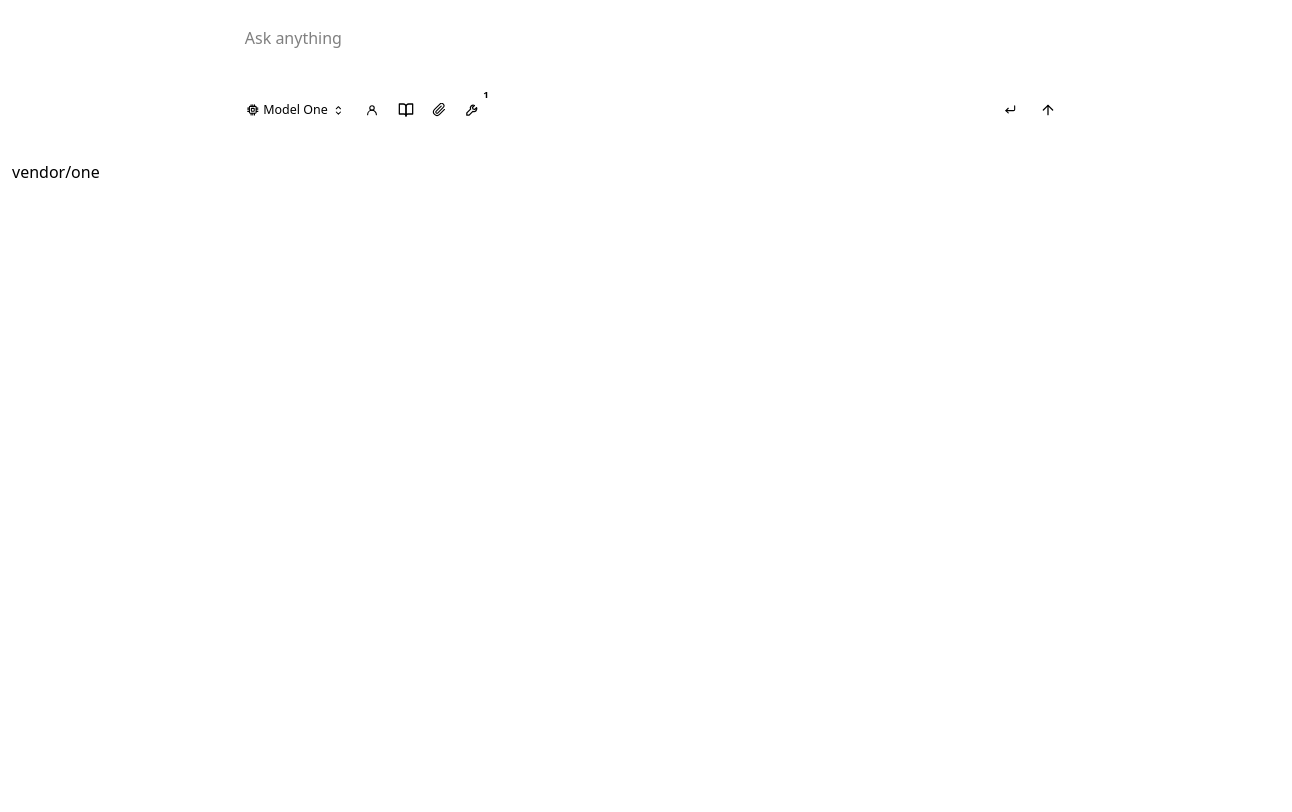
it: Composer — all connectors on / off › is not offered when every row is always-on
The width and height of the screenshot is (1292, 812).
Step 1. Click the button named "Tools" → (473, 110), box [457,94,489,126]
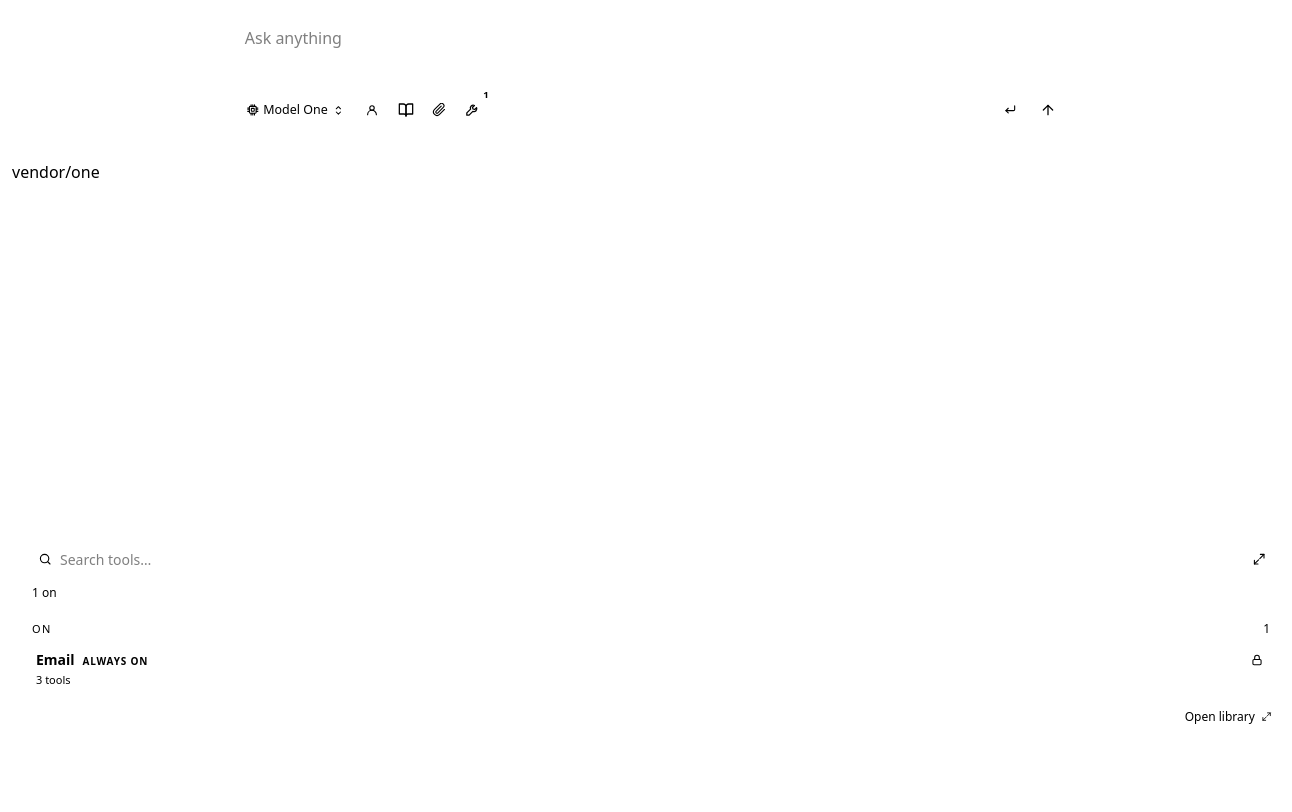
Check: the element with test id "chat-mcp-always-on-email" is shown, box [1250,653,1264,667]
